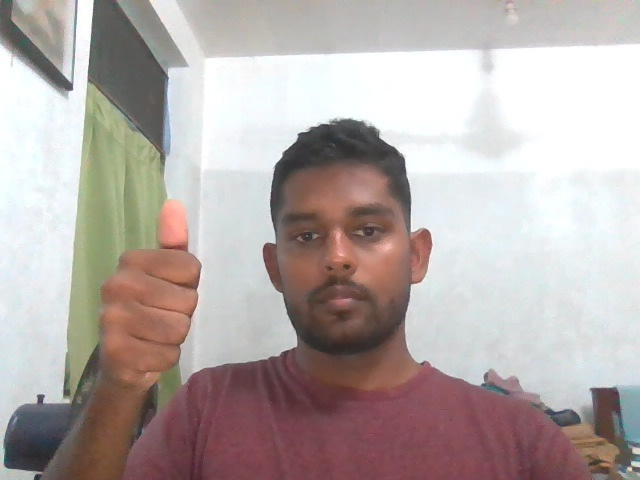good.: (83, 194, 205, 431)
